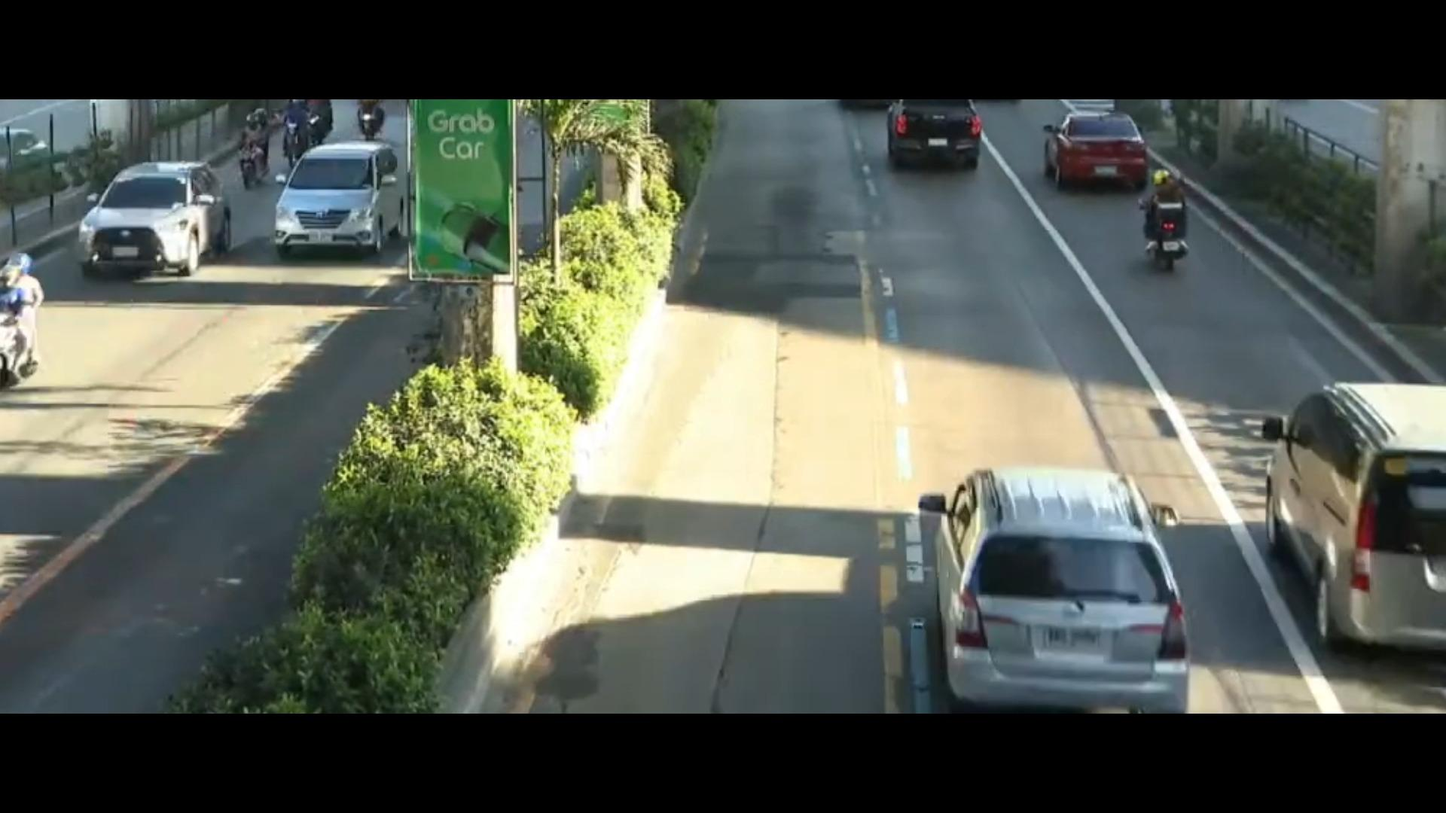Motorcycle: (0, 269, 100, 413), (1088, 166, 1207, 273), (242, 108, 275, 187), (350, 104, 413, 137), (275, 104, 313, 154)
Pickup: (887, 98, 993, 164)
SUV: (908, 443, 1210, 708), (64, 155, 245, 292), (245, 126, 396, 270)
Sedan: (1045, 104, 1171, 203)
Van: (1239, 369, 1446, 654)
